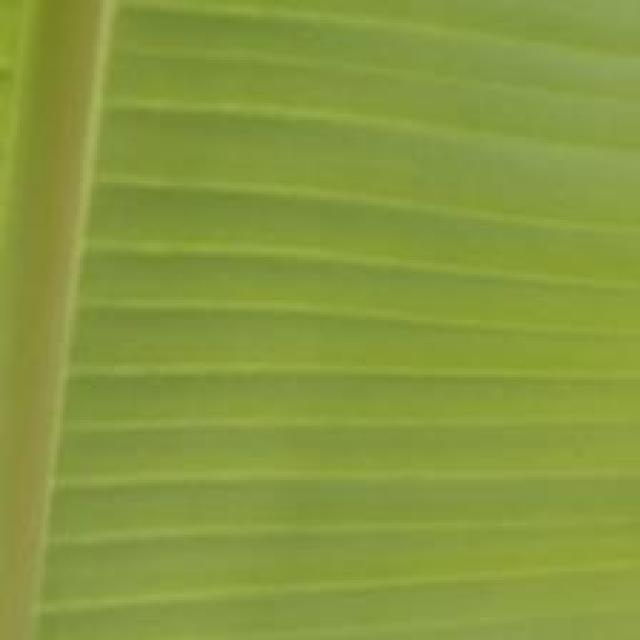Black_leaf_spot: (0, 0, 620, 609)
